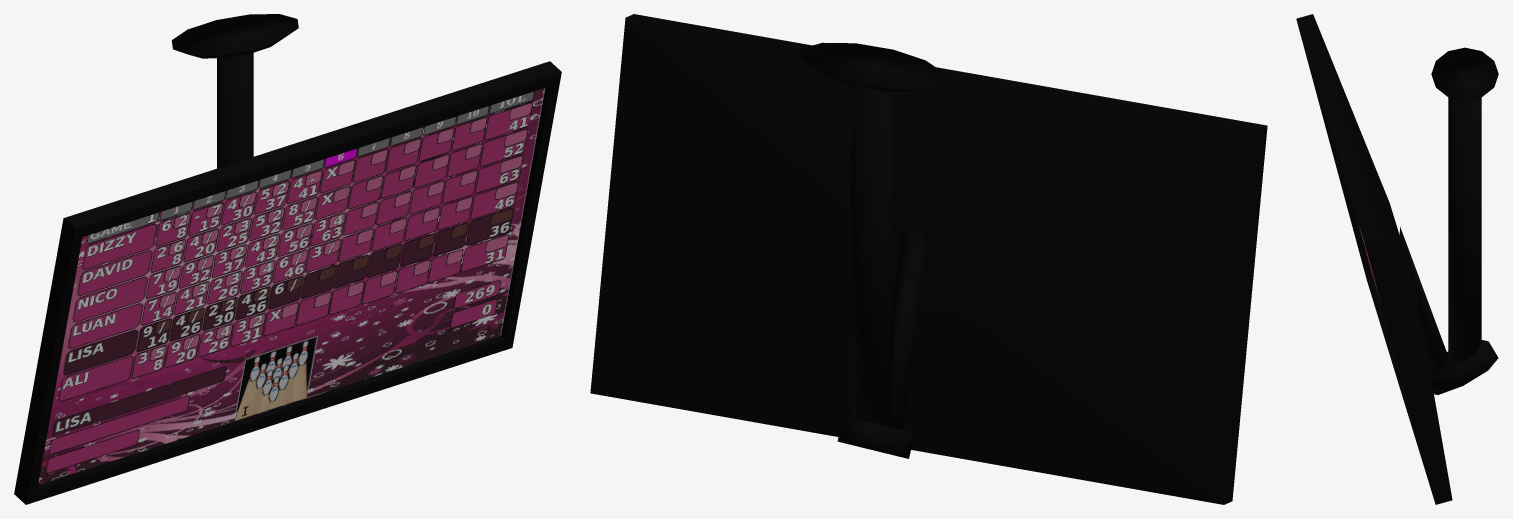
Rendered from bowling_screen_left.fbx.
The picture shows the model from 3 angles, left to right: view 1: azimuth 30°, elevation 25°; view 2: azimuth 150°, elevation 25°; view 3: azimuth 270°, elevation 25°; orthographic projection. The views are drawn at different scales.
Visible parts, largest first — view 1: Cube; view 2: Cube; view 3: Cube.
Part boxes in pixels (box(x1,y1,x2,y2)): Cube: box(14, 14, 561, 504); Cube: box(590, 14, 1267, 504); Cube: box(1296, 14, 1498, 504).
Bounding box in the file's own units: 217 × 141 × 81.06.
